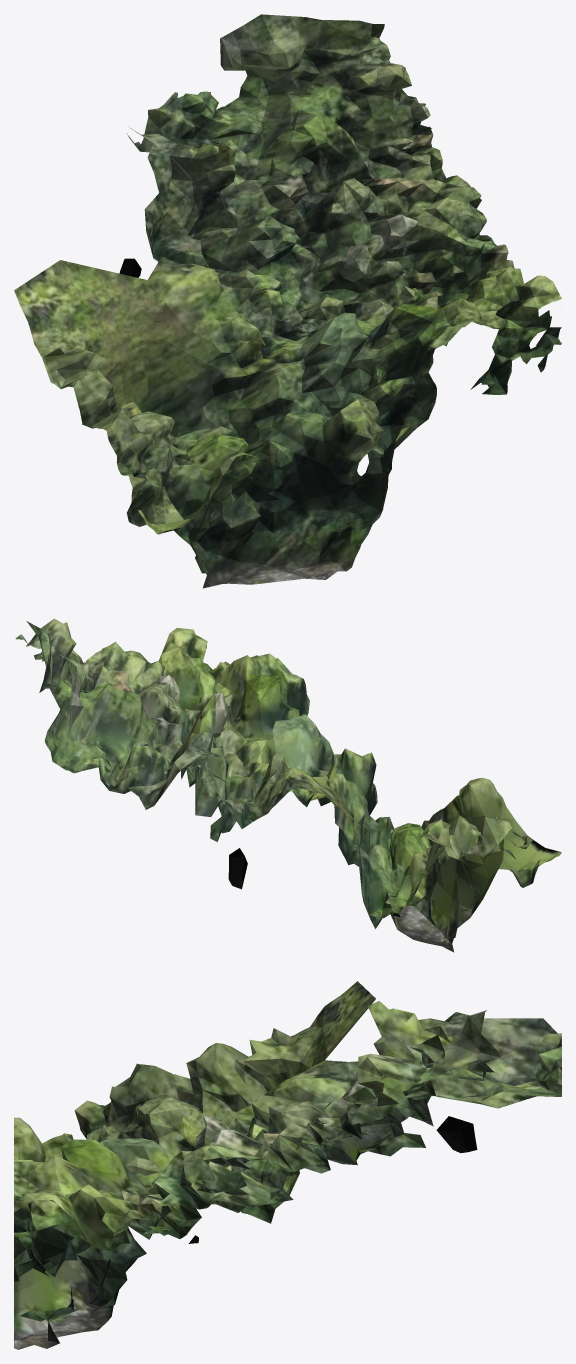
3 renders of one model, top to bottom at view 1: azimuth 30°, elevation 25°; view 2: azimuth 150°, elevation 25°; view 3: azimuth 270°, elevation 25°, orthographic. The views are drawn at different scales.
Bounding box in the file's own units: 104 × 95.85 × 104.
5 materials, 5 textured.
